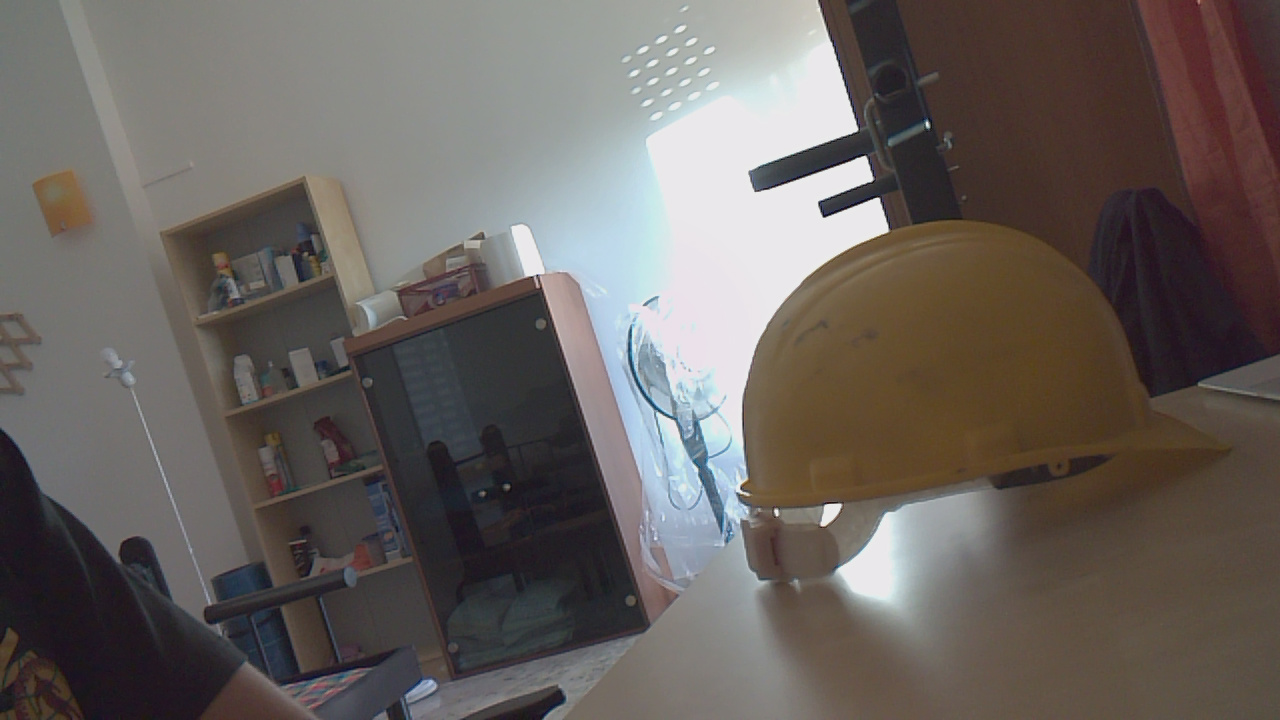Helmet: (735, 219, 1232, 589)
